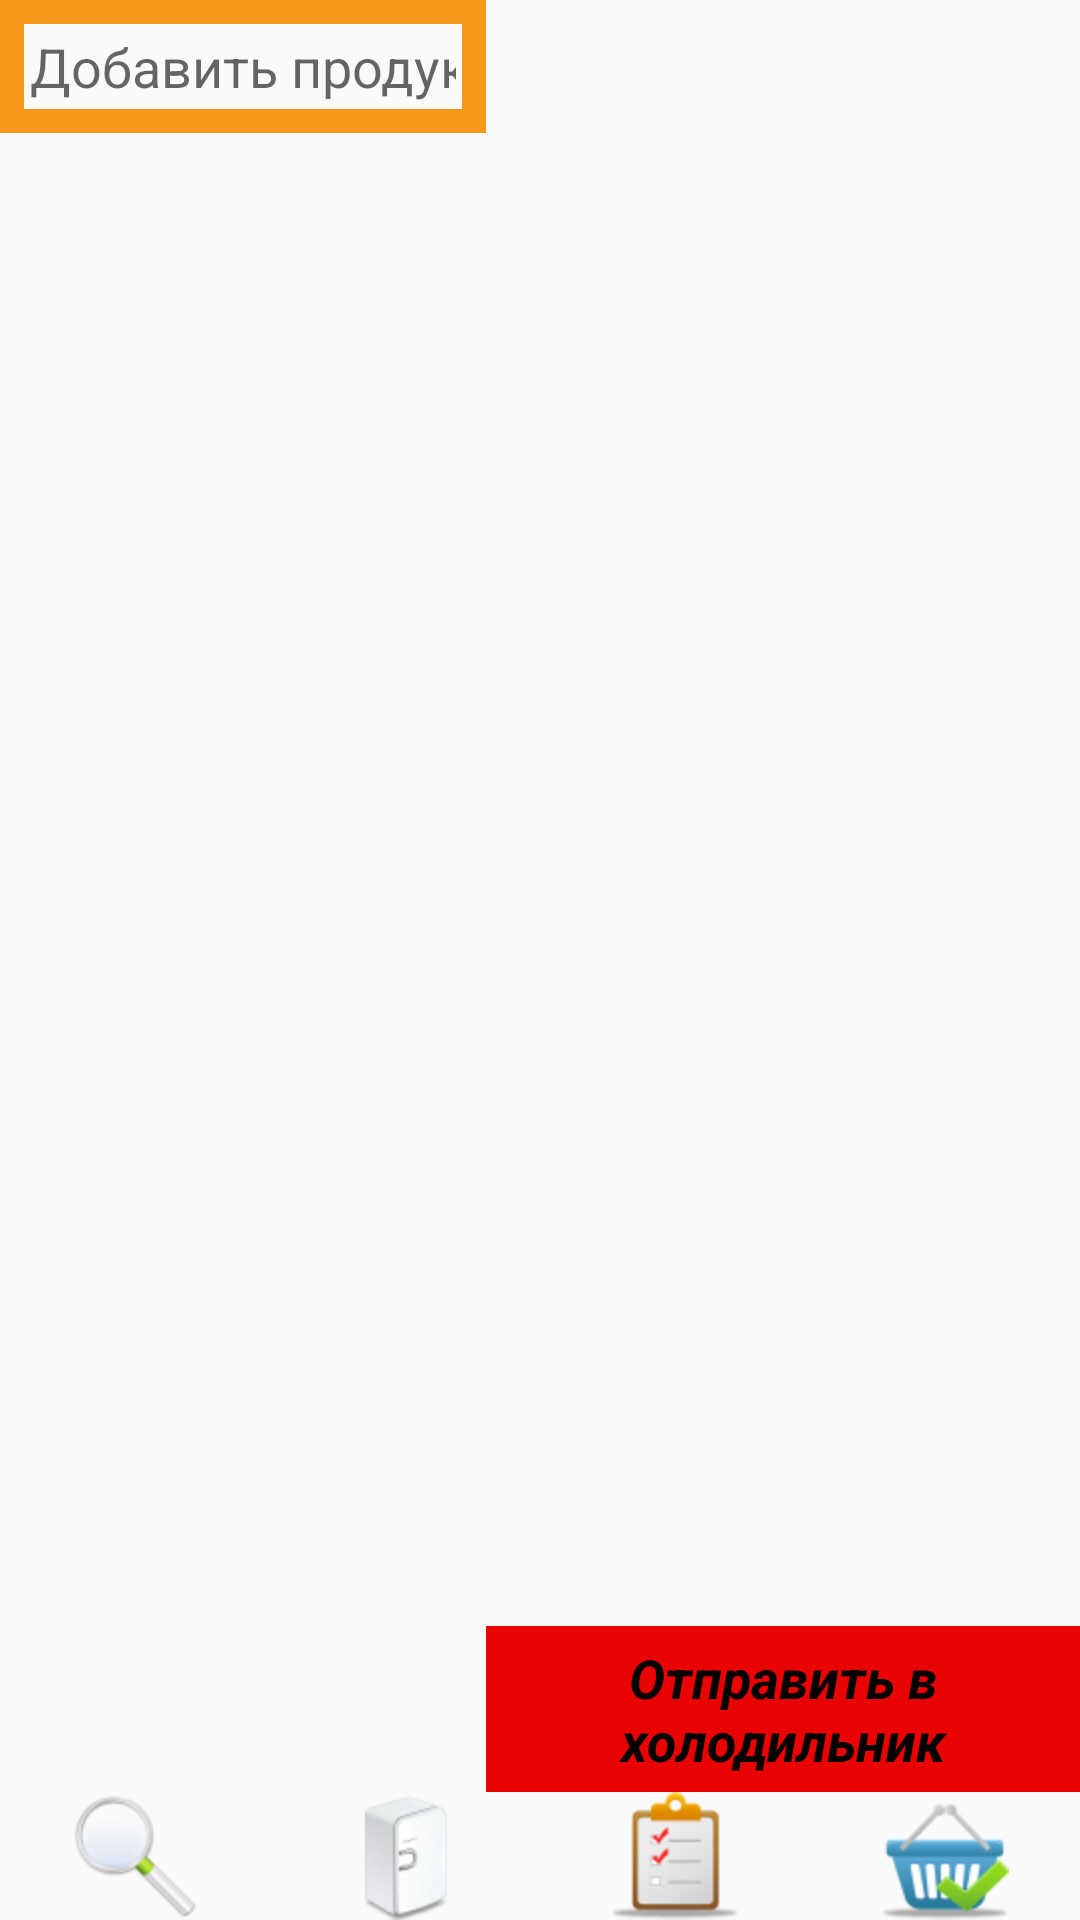

Icon click points for this 1080w x 1920h phone screenshot, format [x,y]:
basket: [947,1861]
fridge: [404,1862]
list: [675,1855]
search: [135,1856]
